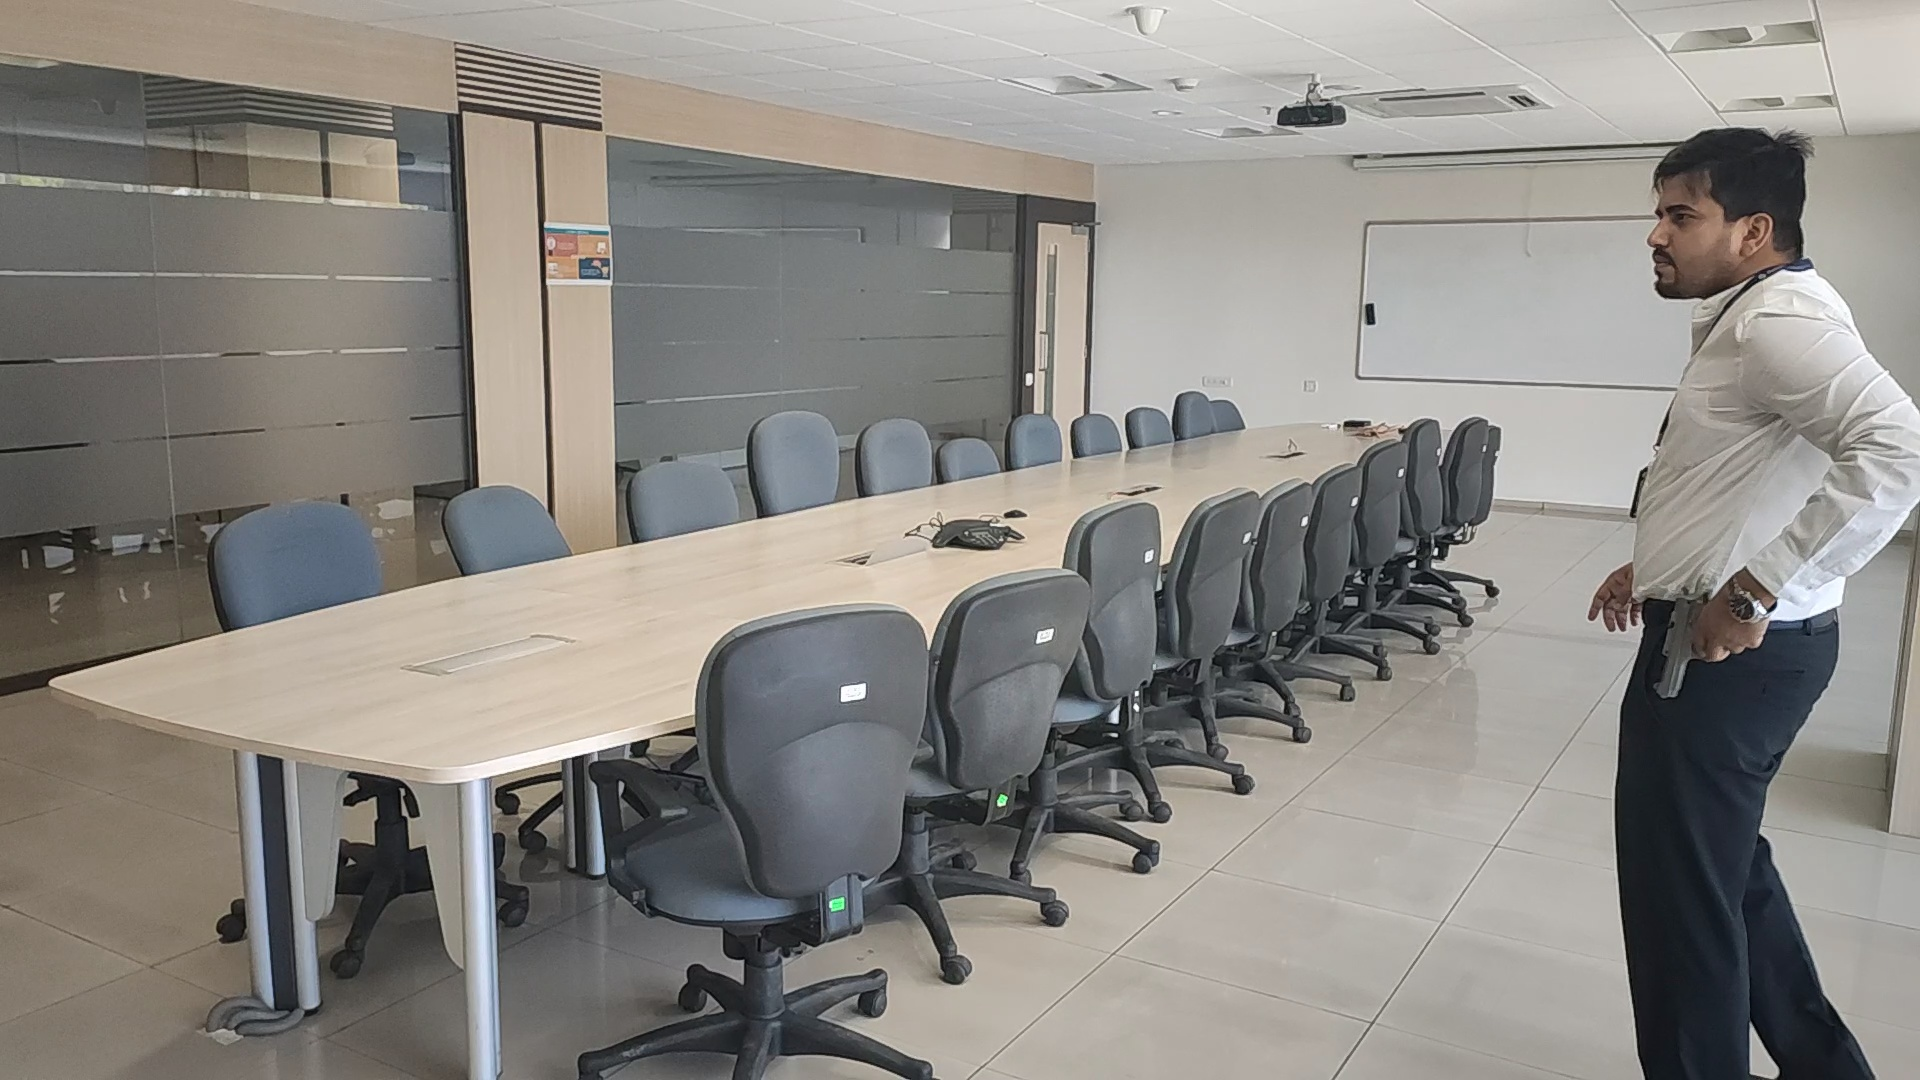gun: (1654, 593, 1704, 700)
